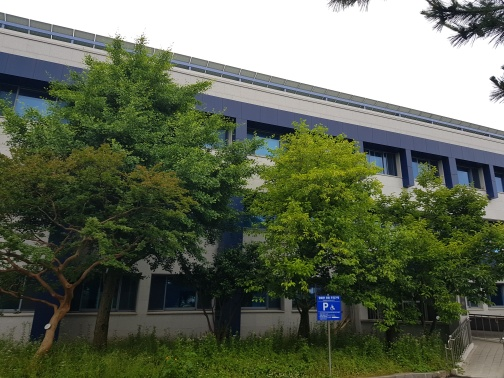College of Social Sciences: (17, 19, 501, 222)
